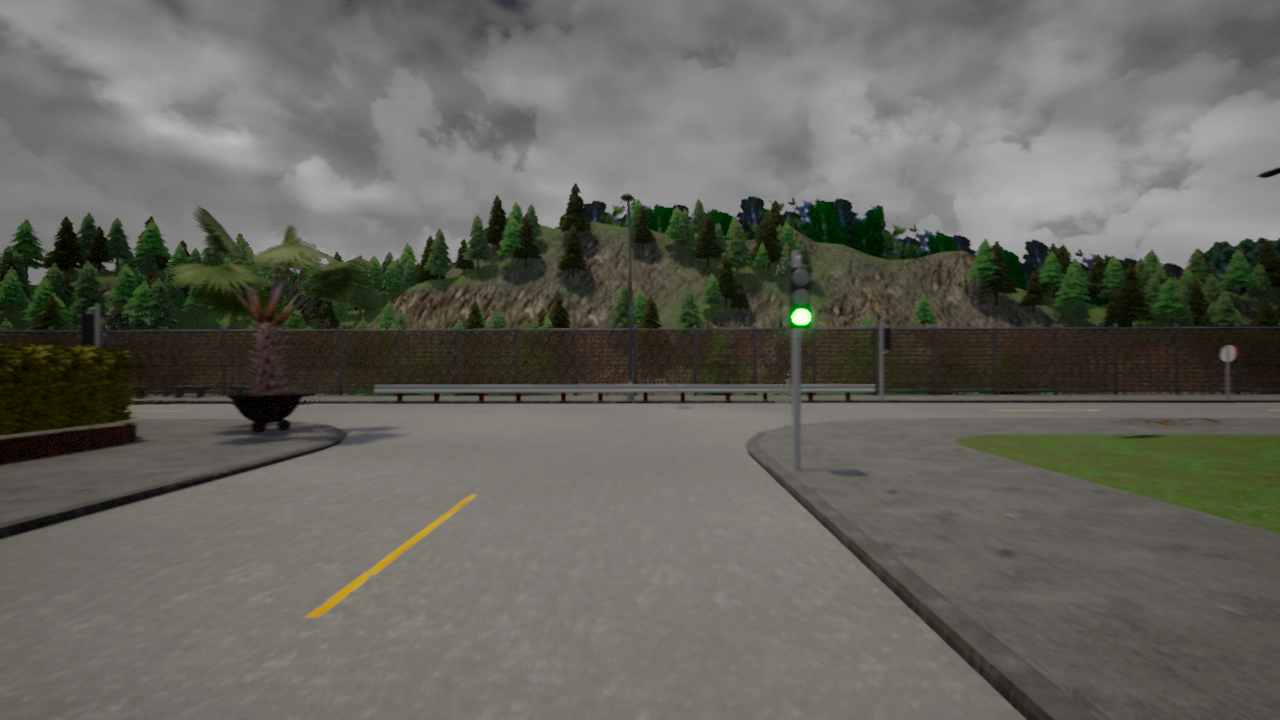green: (787, 266, 817, 331)
